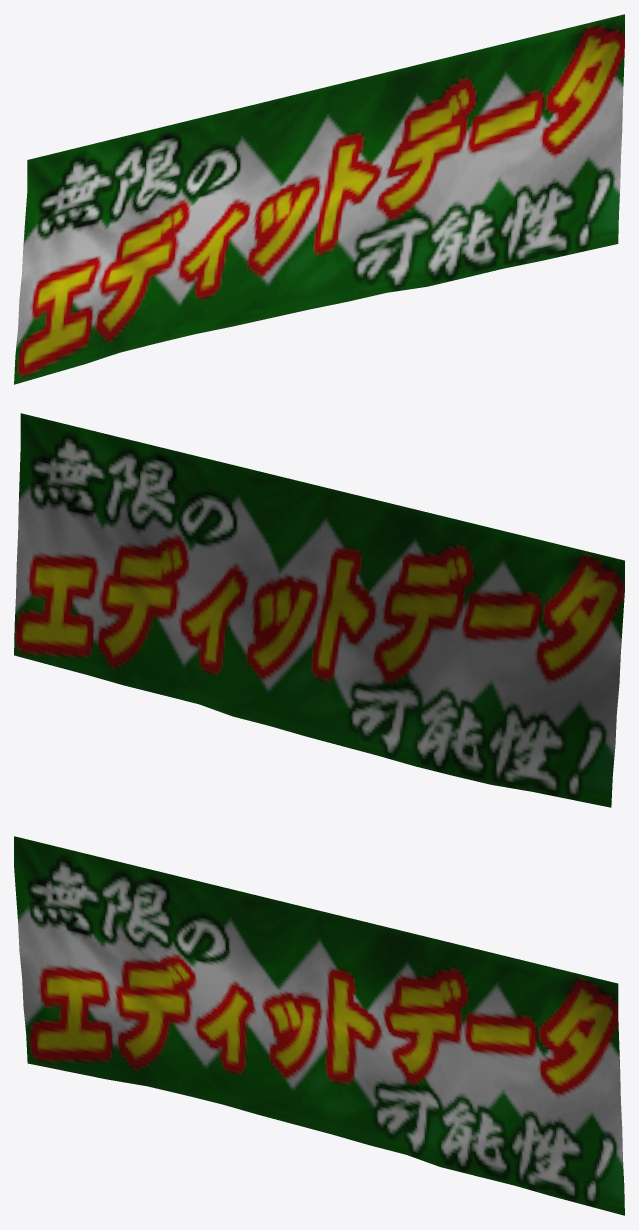
File: edit_date.icn.obj
3 views of the same model, one above another, from view 1: azimuth 30°, elevation 25°; view 2: azimuth 150°, elevation 25°; view 3: azimuth 330°, elevation 25° (orthographic).
Bounding box in the file's own units: 4.95 × 1.86 × 0.2935.
1 material, 1 textured.
